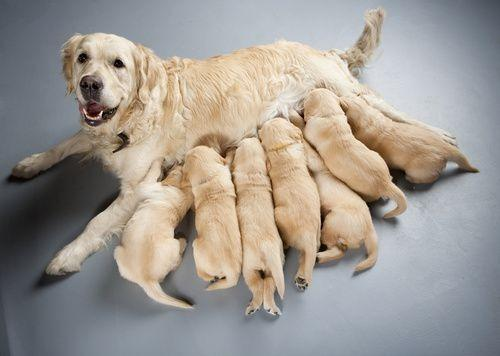adult_dog: (10, 5, 455, 277)
puppy-dog: (302, 90, 407, 219), (114, 159, 195, 309), (343, 112, 480, 194), (259, 115, 320, 291), (233, 136, 286, 319), (182, 147, 244, 291), (305, 168, 380, 277)
